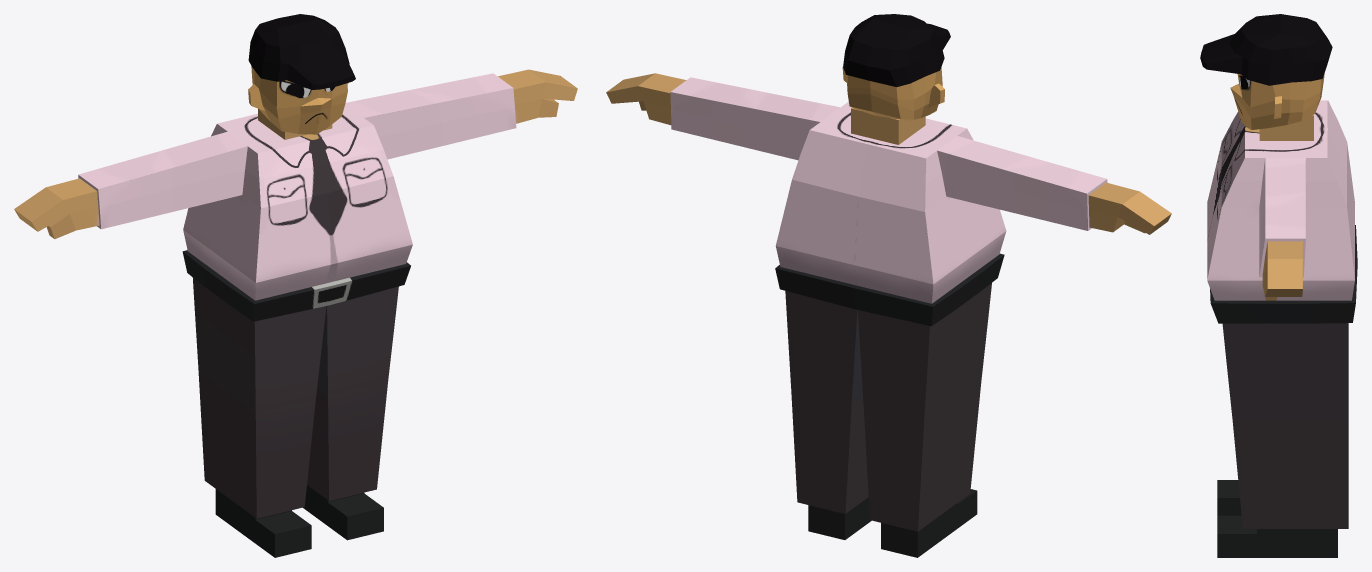
Rendered from Satpam.fbx.
3 views of the same model, side by side, from view 1: azimuth 30°, elevation 25°; view 2: azimuth 150°, elevation 25°; view 3: azimuth 270°, elevation 25° (orthographic).
Parts seen in each view (by area): view 1: Cube, Muka cowo.001, Muka cowo; view 2: Cube, Muka cowo.001, Muka cowo; view 3: Cube, Muka cowo.001, Muka cowo.
Part boxes in pixels (x1,y1,x2,y2): Cube: [14, 69, 577, 557]; Muka cowo.001: [248, 14, 355, 89]; Muka cowo: [248, 66, 348, 134]; Cube: [606, 73, 1171, 557]; Muka cowo.001: [843, 14, 950, 86]; Muka cowo: [842, 67, 944, 120]; Cube: [1207, 100, 1357, 557]; Muka cowo.001: [1200, 14, 1332, 85]; Muka cowo: [1230, 73, 1324, 129].
Bounding box in the file's own units: 869 × 758 × 213.
2 materials, 2 textured.
